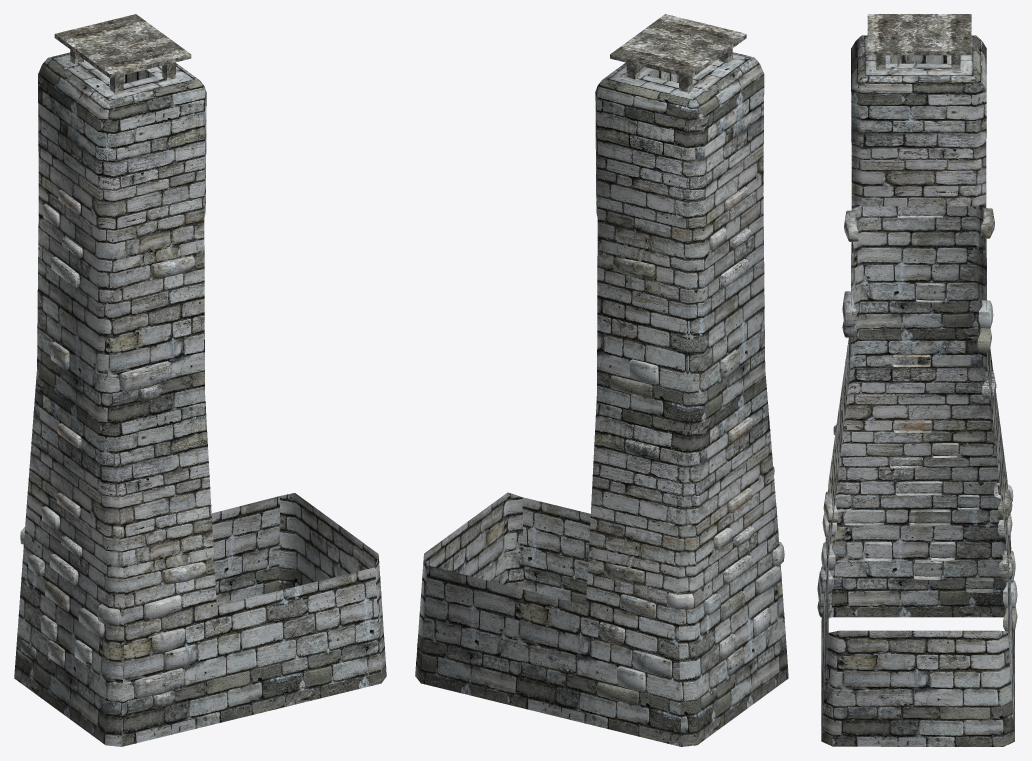
Rendered from cabinExteriorFireplace_01_LOD0.FBX.
3 renders of one model, left to right at view 1: azimuth 30°, elevation 25°; view 2: azimuth 150°, elevation 25°; view 3: azimuth 270°, elevation 25°, orthographic. The views are drawn at different scales.
Parts seen in each view (by area): view 1: cabinExteriorFireplace_01_LOD0; view 2: cabinExteriorFireplace_01_LOD0; view 3: cabinExteriorFireplace_01_LOD0.
Part boxes in pixels (bbox=[...]): cabinExteriorFireplace_01_LOD0: bbox=[14, 14, 386, 746]; cabinExteriorFireplace_01_LOD0: bbox=[415, 14, 788, 746]; cabinExteriorFireplace_01_LOD0: bbox=[817, 14, 1017, 746].
Bounding box in the file's own units: 21.17 × 46.57 × 13.76.
Materials: 2 (2 with a texture image).
